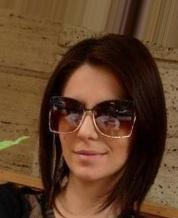face: (60, 95, 122, 162)
